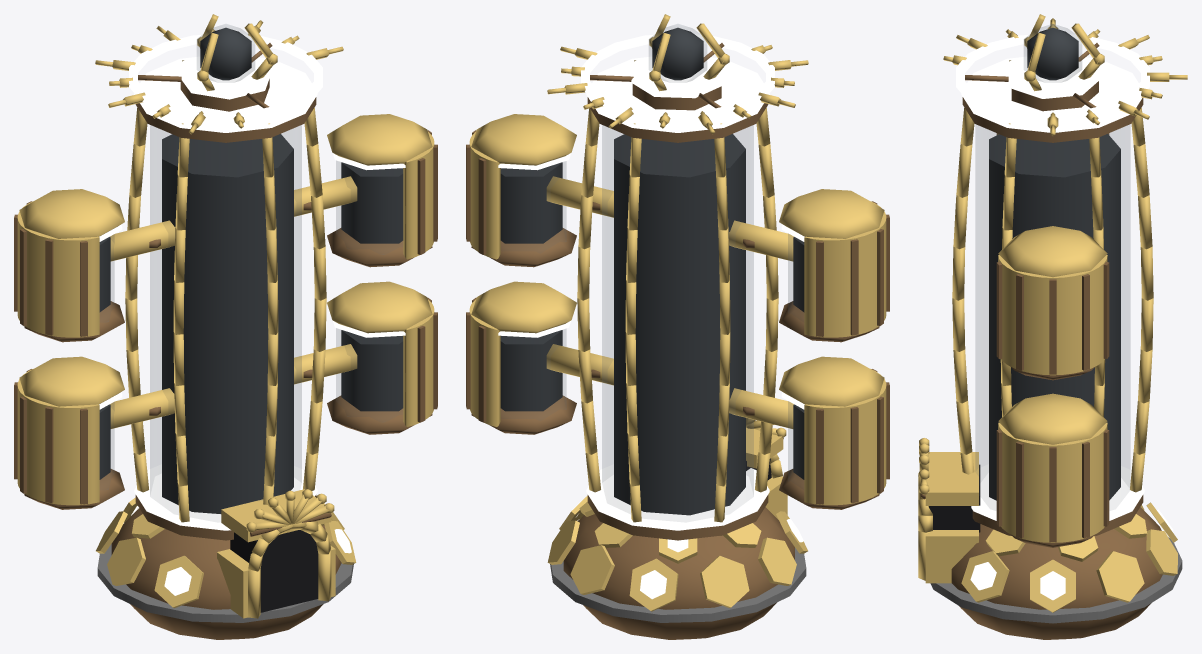
Rendered from SOLAR_Vat_T4.glb.
3 renders of one model, left to right at view 1: azimuth 30°, elevation 25°; view 2: azimuth 150°, elevation 25°; view 3: azimuth 270°, elevation 25°, orthographic.
Visible parts, largest first — view 1: SOLAR_Vat_T4; view 2: SOLAR_Vat_T4; view 3: SOLAR_Vat_T4.
Boxes of the visible parts, x1,y1,x2,y2 form: SOLAR_Vat_T4: (14, 14, 437, 639); SOLAR_Vat_T4: (466, 14, 889, 639); SOLAR_Vat_T4: (918, 14, 1187, 639).
Bounding box in the file's own units: 6.37 × 8.96 × 3.64.
